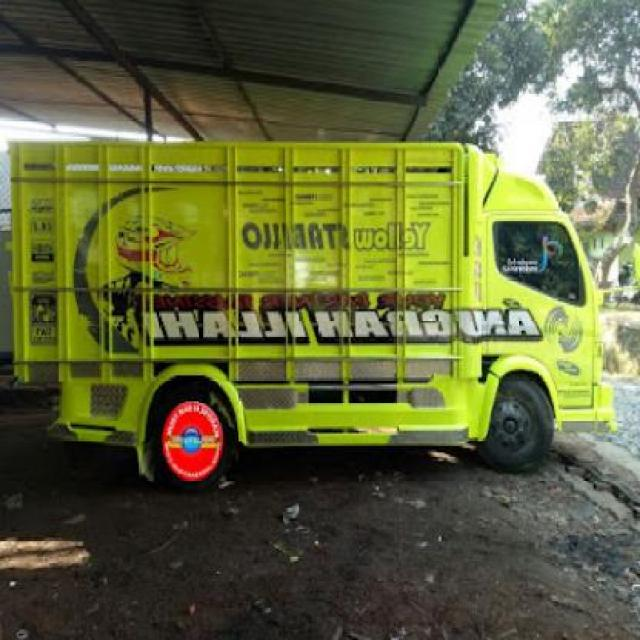truck: (3, 137, 630, 488)
